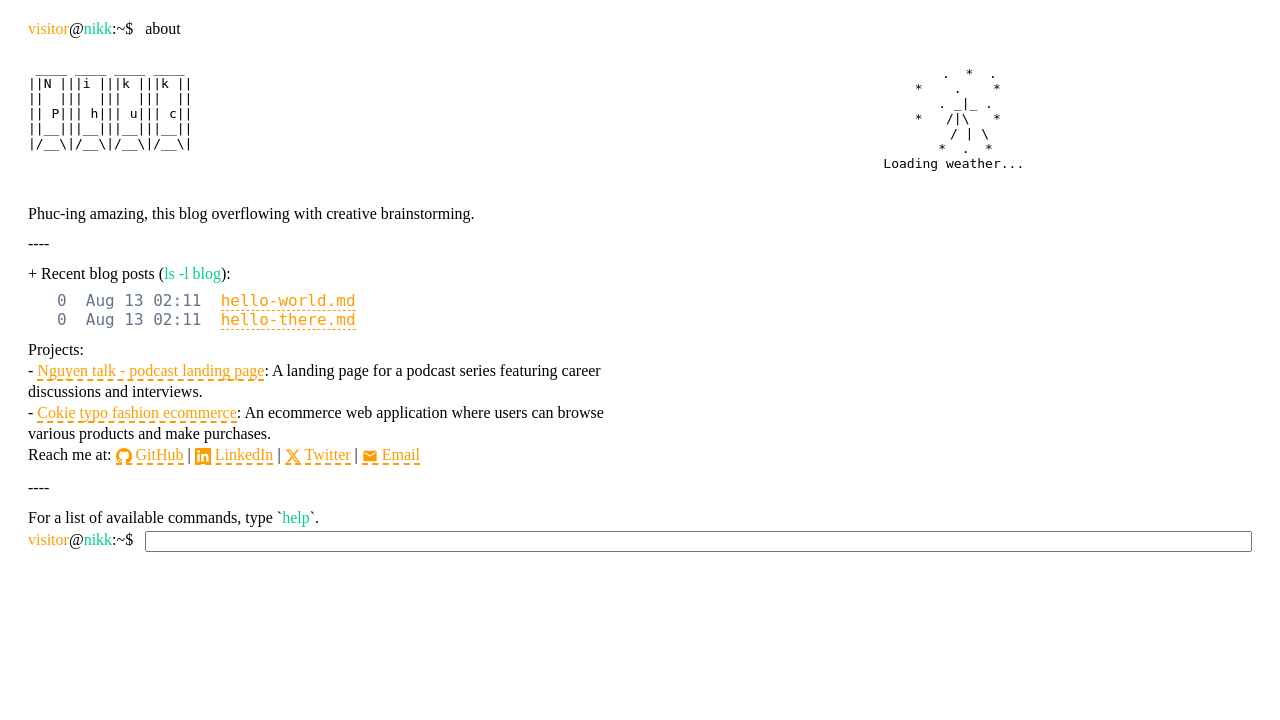
Test case: Terminal component › autocomplete behavior › completes single matching command with trailing space on Tab
Type "abo" into the field titled "terminal-input" at point(699, 542), box [145, 531, 1252, 552]
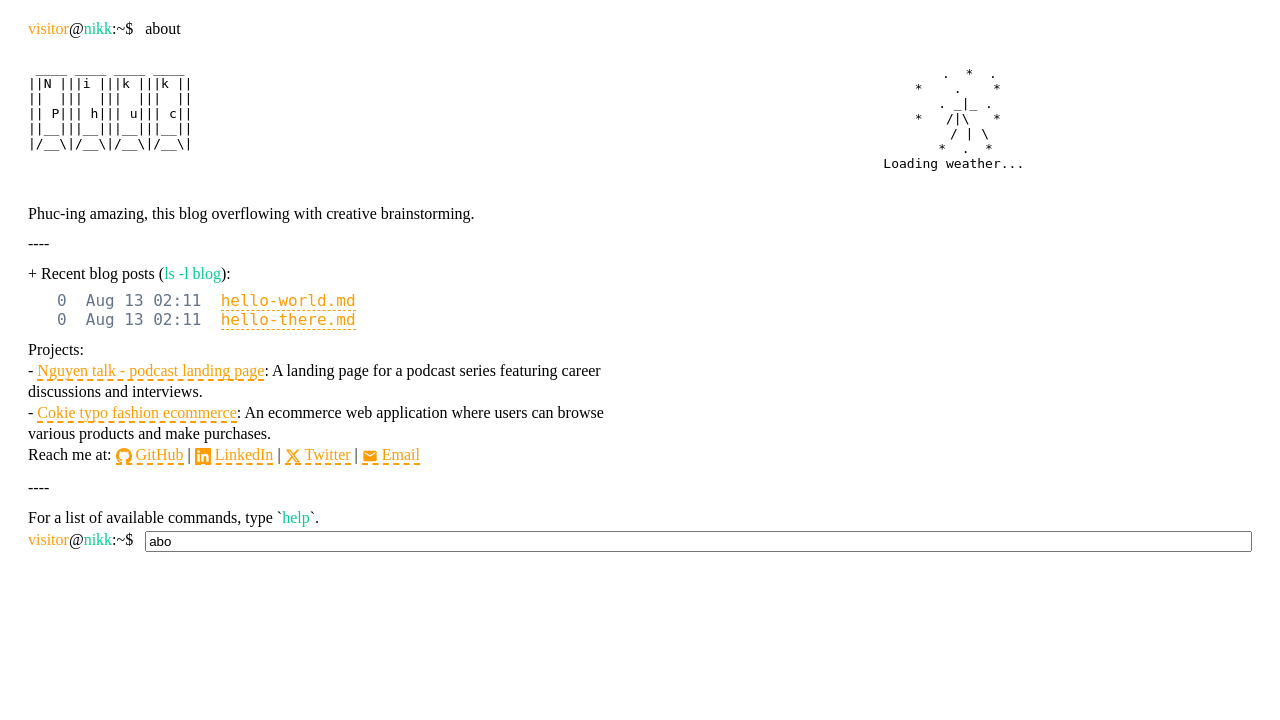
Press Tab in the field titled "terminal-input", box [145, 531, 1252, 552]
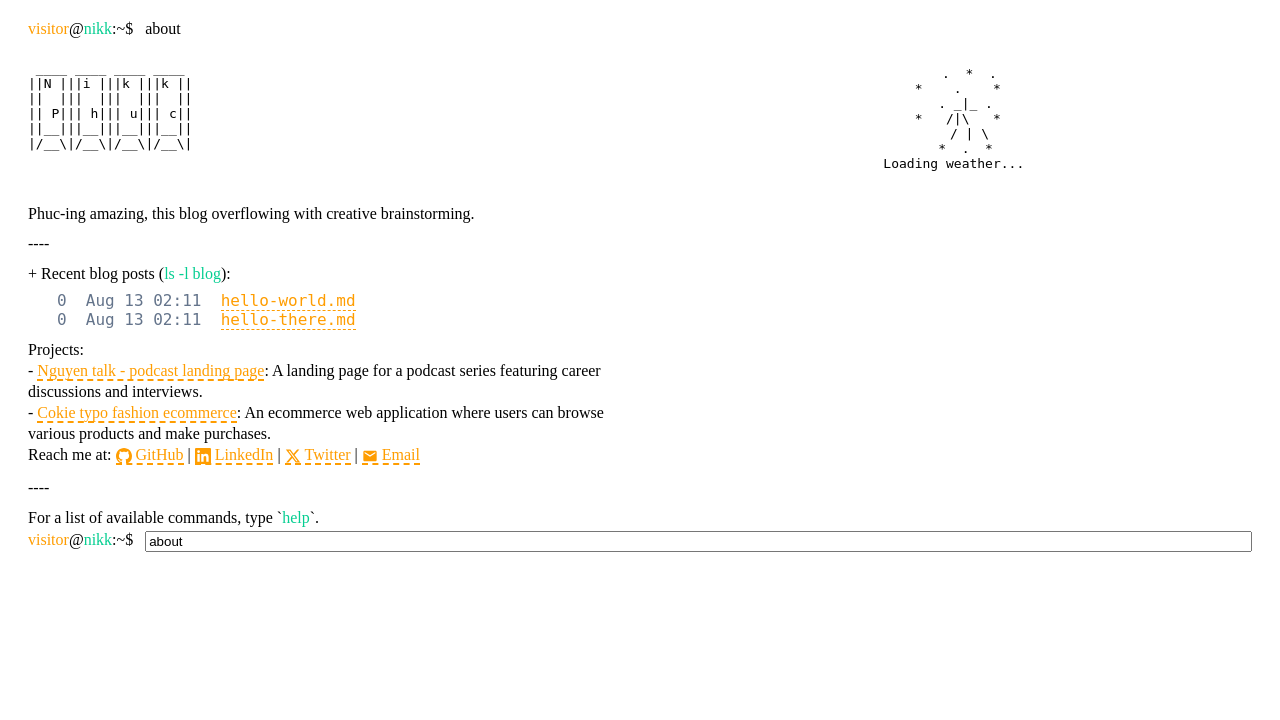
Now the field titled "terminal-input" holds "about ", box [145, 531, 1252, 552]
